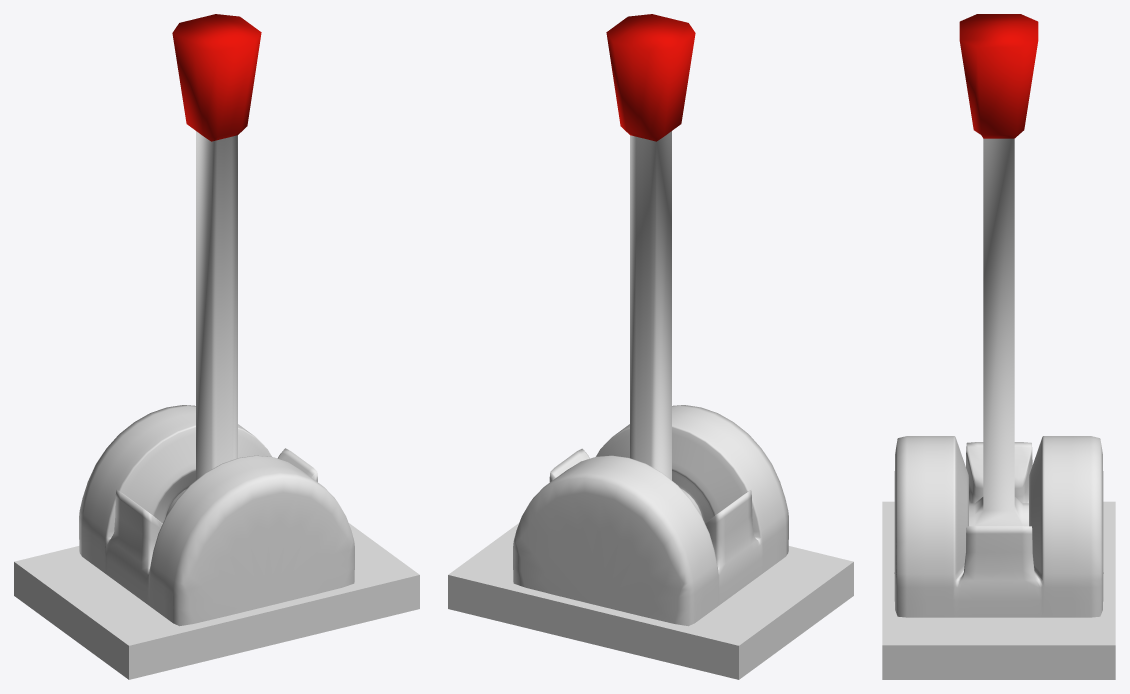
File: Rychag.fbx
The picture shows the model from 3 angles, left to right: view 1: azimuth 30°, elevation 25°; view 2: azimuth 150°, elevation 25°; view 3: azimuth 270°, elevation 25°; orthographic projection.
Visible parts, largest first — view 1: Cylinder, Cube, Cylinder.001; view 2: Cylinder, Cube, Cylinder.001; view 3: Cylinder, Cylinder.001, Cube.
Part boxes in pixels (left/top/right/bottom): Cylinder: left=79, top=405, right=354, bottom=626; Cube: left=14, top=523, right=419, bottom=679; Cylinder.001: left=166, top=14, right=261, bottom=516; Cylinder: left=513, top=405, right=788, bottom=626; Cube: left=448, top=523, right=853, bottom=679; Cylinder.001: left=606, top=14, right=701, bottom=516; Cylinder: left=894, top=436, right=1103, bottom=617; Cylinder.001: left=959, top=14, right=1038, bottom=526; Cube: left=882, top=501, right=1115, bottom=679.
Size of the model in its own units: 326 by 610 by 223.
